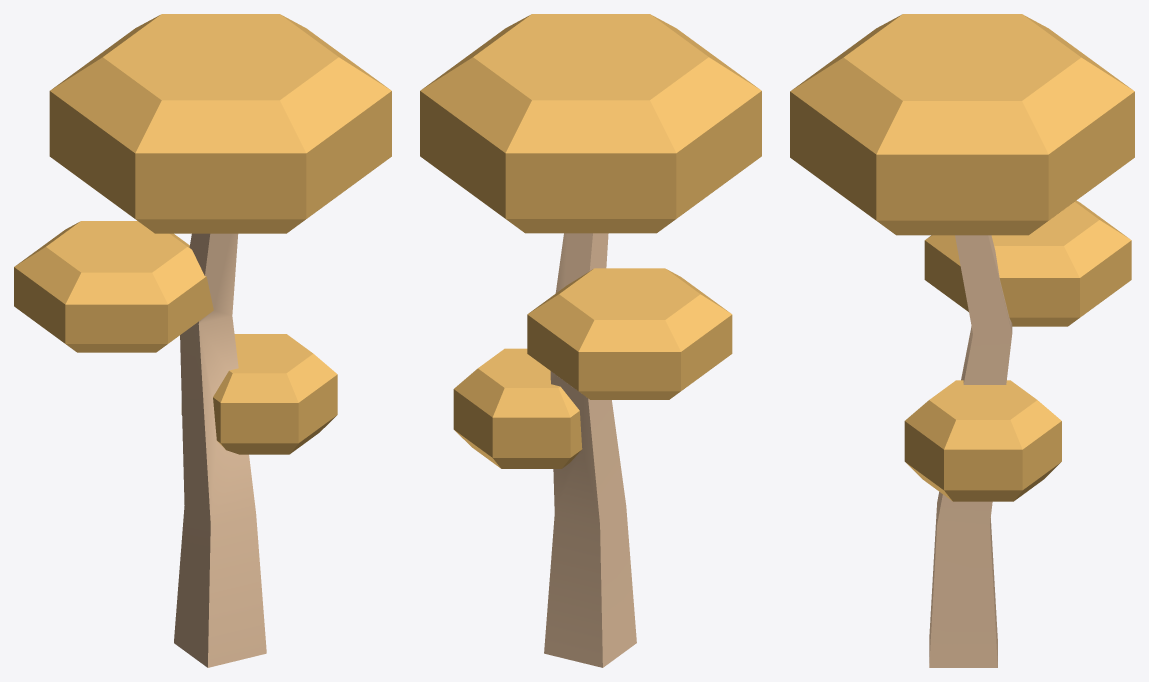
File: tree_plateau_fall.glb
3 renders of one model, left to right at view 1: azimuth 30°, elevation 25°; view 2: azimuth 150°, elevation 25°; view 3: azimuth 270°, elevation 25°, orthographic.
Visible parts, largest first — view 1: tree_plateau_fall; view 2: tree_plateau_fall; view 3: tree_plateau_fall.
Boxes of the visible parts, <box> form: tree_plateau_fall: <box>14,14,391,667</box>; tree_plateau_fall: <box>420,14,761,667</box>; tree_plateau_fall: <box>790,14,1134,667</box>.
Size of the model in its own units: 0.6117 by 1.25 by 0.6549.
